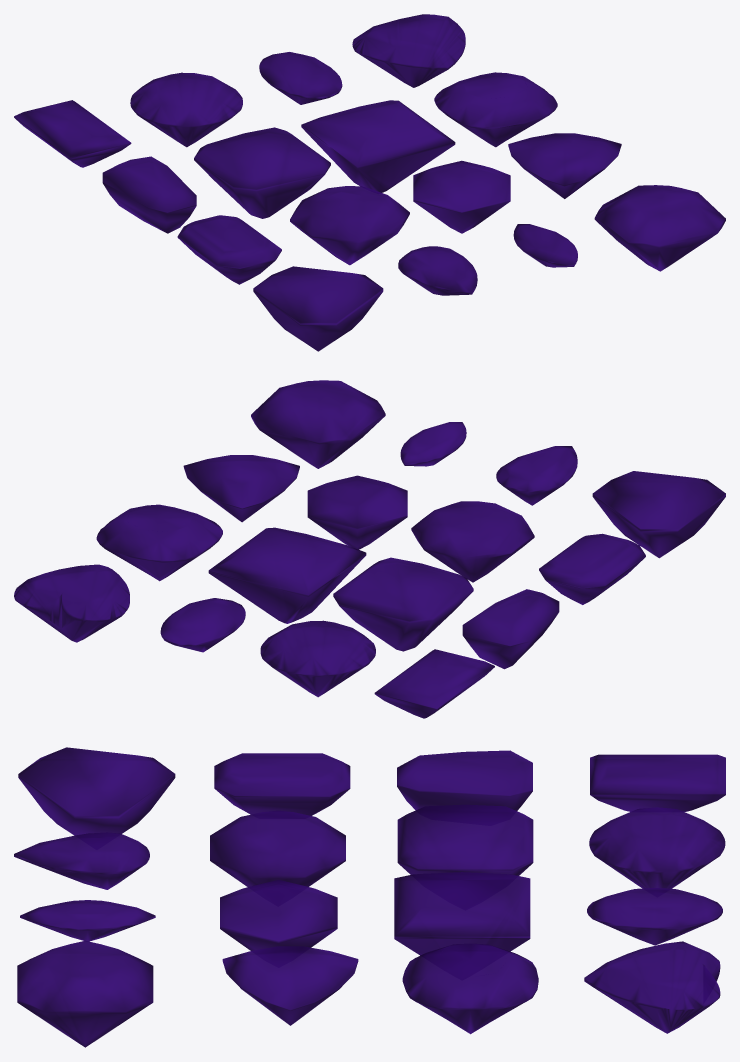
Rendered from cuts.glb.
The picture shows the model from 3 angles, top to bottom: view 1: azimuth 30°, elevation 25°; view 2: azimuth 150°, elevation 25°; view 3: azimuth 270°, elevation 25°; orthographic projection. The views are drawn at different scales.
Parts seen in each view (by area): view 1: Princess, Radiant, Flanders, Triangle, Octagonal, Cushion, Heart, Brilliant, Hexagonal, Coffin, Trillion, Emerald (+4 smaller); view 2: Princess, Radiant, Flanders, Triangle, Octagonal, Cushion, Heart, Brilliant, Hexagonal, Trillion, Coffin, Emerald (+4 smaller); view 3: Flanders, Princess, Triangle, Radiant, Cushion, Octagonal, Heart, Brilliant, Baguette, Emerald, Coffin, Trillion (+4 smaller).
Boxes of the visible parts, x1,y1,x2,y2 form: Princess: [301, 100, 455, 192]; Radiant: [194, 127, 330, 218]; Flanders: [594, 185, 725, 271]; Triangle: [253, 266, 383, 351]; Octagonal: [290, 186, 409, 265]; Cushion: [434, 72, 557, 147]; Heart: [352, 14, 465, 87]; Brilliant: [130, 72, 242, 147]; Hexagonal: [413, 160, 510, 233]; Coffin: [102, 156, 196, 233]; Trillion: [508, 133, 621, 198]; Emerald: [177, 215, 281, 284]; Princess: [208, 527, 366, 623]; Radiant: [333, 557, 473, 651]; Flanders: [251, 380, 385, 468]; Triangle: [592, 471, 725, 558]; Octagonal: [411, 501, 534, 582]; Cushion: [96, 504, 222, 581]; Heart: [14, 564, 129, 642]; Brilliant: [260, 620, 375, 697]; Hexagonal: [307, 475, 407, 549]; Trillion: [183, 455, 299, 522]; Coffin: [462, 589, 559, 669]; Emerald: [539, 533, 645, 604]; Flanders: [17, 940, 153, 1047]; Princess: [394, 872, 530, 955]; Triangle: [18, 747, 175, 835]; Radiant: [397, 804, 533, 875]; Cushion: [402, 943, 538, 1034]; Octagonal: [210, 810, 345, 886]; Heart: [584, 941, 720, 1033]; Brilliant: [589, 807, 725, 888]; Baguette: [590, 754, 725, 811]; Emerald: [214, 753, 350, 815]; Coffin: [397, 750, 532, 810]; Trillion: [222, 946, 358, 1025].
Size of the model in its own units: 3.53 by 0.6236 by 4.19.
